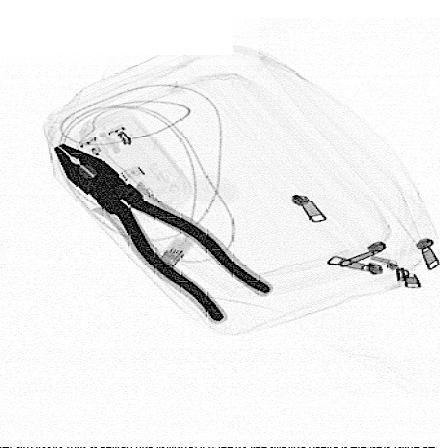Pliers: (49, 139, 277, 324)
